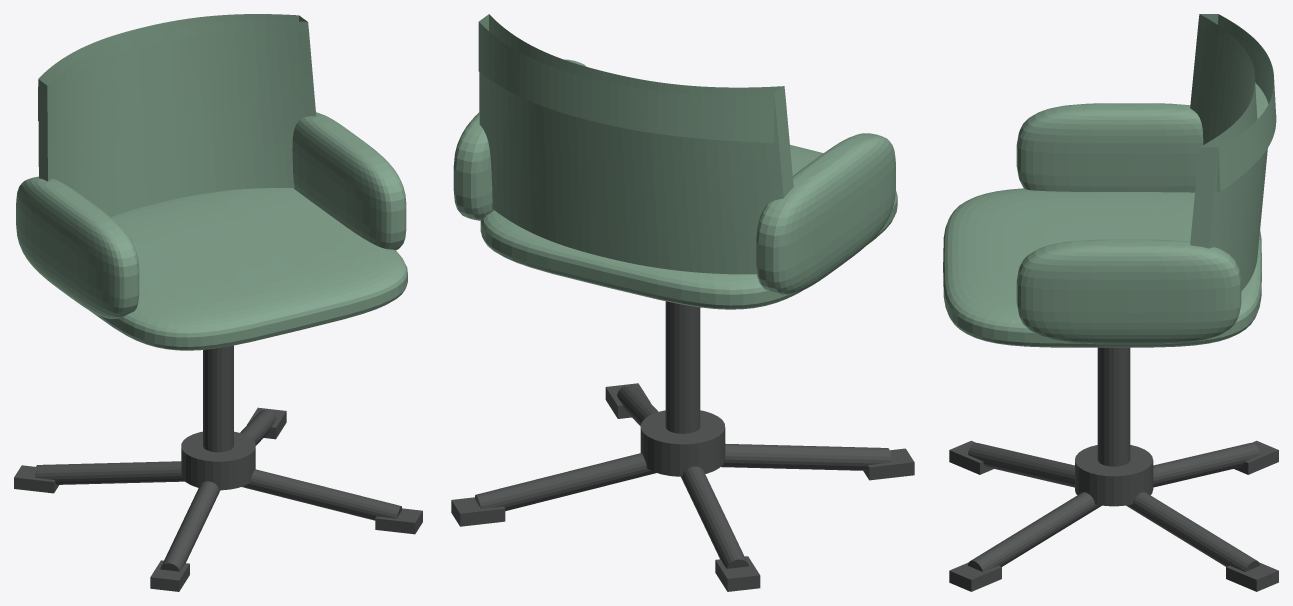
Rendered from office_chair_green_reference.glb.
3 renders of one model, left to right at view 1: azimuth 30°, elevation 25°; view 2: azimuth 150°, elevation 25°; view 3: azimuth 270°, elevation 25°, orthographic. The views are drawn at different scales.
Parts seen in each view (by area): view 1: curved_upholstered_back, seat_cushion, side_bolster_-0.276, side_bolster_+0.276, base_hub, center_column, base_spoke_0, base_spoke_2, base_spoke_1, foot_0, foot_1, foot_2 (+1 smaller); view 2: curved_upholstered_back, side_bolster_-0.276, seat_cushion, center_column, base_hub, base_spoke_3, base_spoke_1, side_bolster_+0.276, base_spoke_2, foot_3, foot_2, foot_1 (+1 smaller); view 3: seat_cushion, side_bolster_+0.276, curved_upholstered_back, side_bolster_-0.276, center_column, base_hub, base_spoke_0, base_spoke_3, base_spoke_1, base_spoke_2, foot_0, foot_3 (+2 smaller).
Boxes of the visible parts, <box> form: curved_upholstered_back: <box>38,14,316,217</box>; seat_cushion: <box>90,188,407,350</box>; side_bolster_-0.276: <box>16,176,139,318</box>; side_bolster_+0.276: <box>292,112,406,250</box>; base_hub: <box>181,431,255,490</box>; center_column: <box>203,345,233,452</box>; base_spoke_0: <box>242,469,401,520</box>; base_spoke_2: <box>35,461,184,484</box>; base_spoke_1: <box>160,481,220,571</box>; foot_0: <box>375,508,422,534</box>; foot_1: <box>150,560,189,591</box>; foot_2: <box>14,465,58,493</box>; curved_upholstered_back: <box>478,14,793,274</box>; side_bolster_-0.276: <box>756,133,895,294</box>; seat_cushion: <box>480,145,897,309</box>; center_column: <box>665,301,700,433</box>; base_hub: <box>640,410,725,476</box>; base_spoke_3: <box>475,453,656,510</box>; base_spoke_1: <box>721,443,890,470</box>; side_bolster_+0.276: <box>453,59,585,220</box>; base_spoke_2: <box>681,466,748,568</box>; foot_3: <box>451,497,505,526</box>; foot_2: <box>715,556,760,591</box>; foot_1: <box>863,448,914,480</box>; seat_cushion: <box>943,188,1261,347</box>; side_bolster_+0.276: <box>1016,239,1241,344</box>; curved_upholstered_back: <box>1190,14,1276,291</box>; side_bolster_-0.276: <box>1016,103,1203,192</box>; center_column: <box>1097,347,1130,466</box>; base_hub: <box>1075,445,1153,506</box>; base_spoke_0: <box>968,492,1101,571</box>; base_spoke_3: <box>1126,492,1259,571</box>; base_spoke_1: <box>968,443,1074,487</box>; base_spoke_2: <box>1153,443,1259,487</box>; foot_0: <box>949,562,1001,591</box>; foot_3: <box>1226,562,1278,591</box>.
Size of the model in its own units: 0.6107 by 0.8092 by 0.5573.
